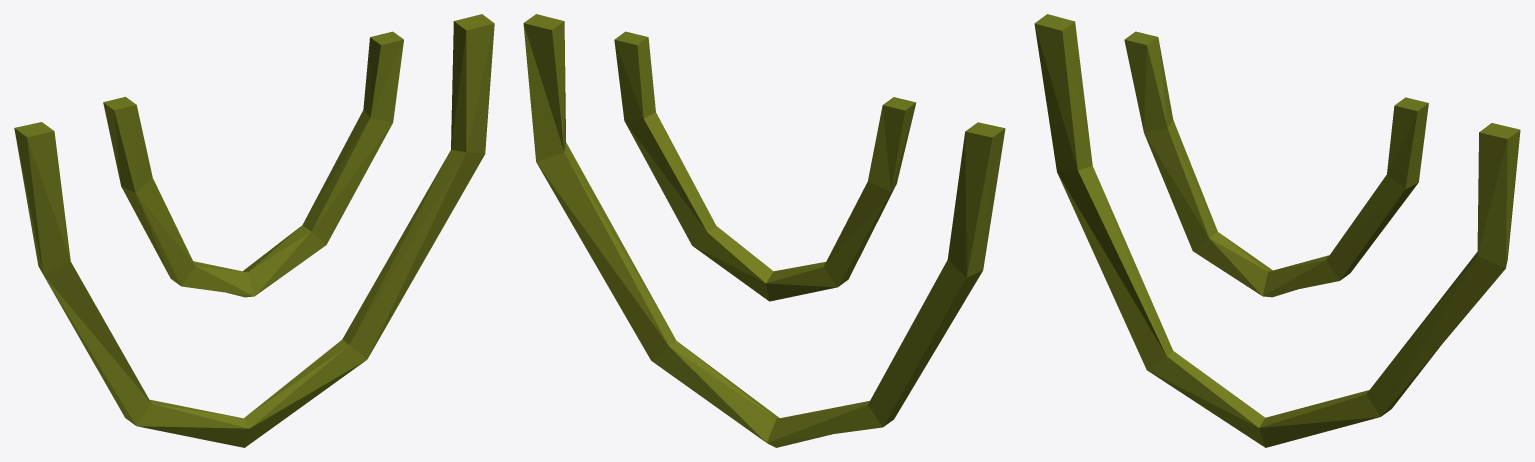
File: Vine_7.fbx
3 renders of one model, left to right at view 1: azimuth 30°, elevation 25°; view 2: azimuth 150°, elevation 25°; view 3: azimuth 330°, elevation 25°, orthographic.
Parts seen in each view (by area): view 1: Vine_7.001; view 2: Vine_7.001; view 3: Vine_7.001.
Part boxes in pixels (x1,y1,x2,y2): Vine_7.001: [14, 14, 494, 447]; Vine_7.001: [523, 14, 1005, 447]; Vine_7.001: [1034, 14, 1520, 447].
Size of the model in its own units: 1.78 by 1.36 by 0.1038.
